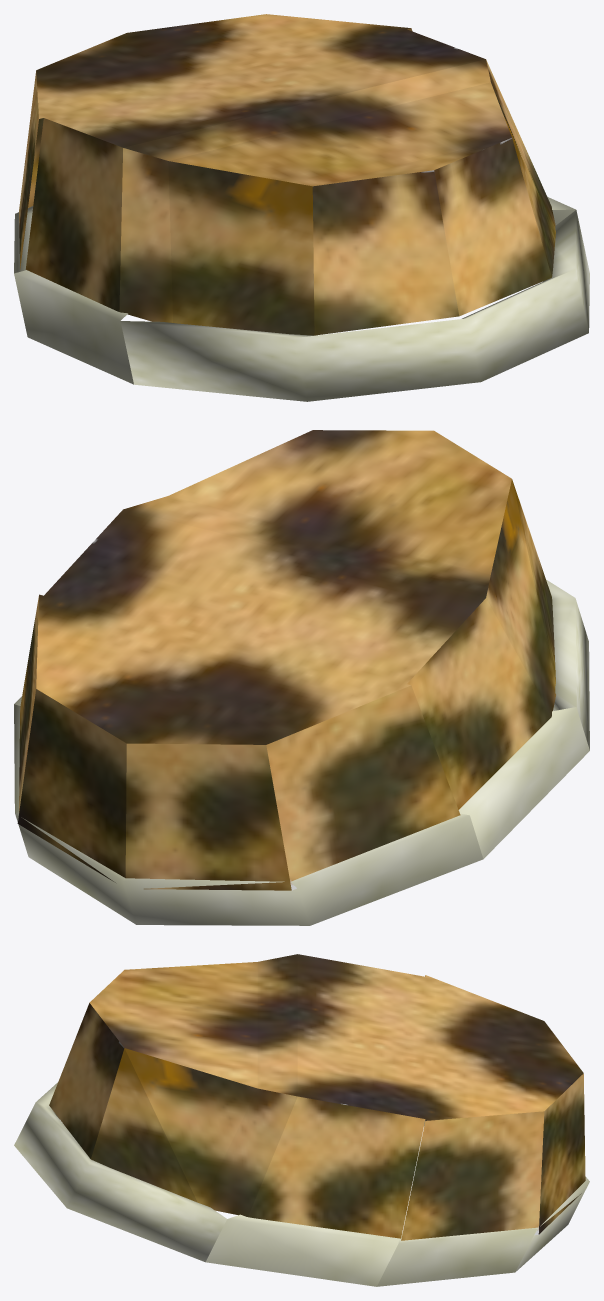
Rendered from helmet_pure_b.dae.
The picture shows the model from 3 angles, top to bottom: view 1: azimuth 30°, elevation 25°; view 2: azimuth 150°, elevation 25°; view 3: azimuth 270°, elevation 25°; orthographic projection. The views are drawn at different scales.
Parts seen in each view (by area): view 1: helmet_pure_b; view 2: helmet_pure_b; view 3: helmet_pure_b.
Part boxes in pixels (x1,y1,x2,y2): helmet_pure_b: [14, 14, 589, 401]; helmet_pure_b: [14, 430, 589, 925]; helmet_pure_b: [14, 954, 589, 1286].
Size of the model in its own units: 0.4277 by 0.5821 by 0.2477.
